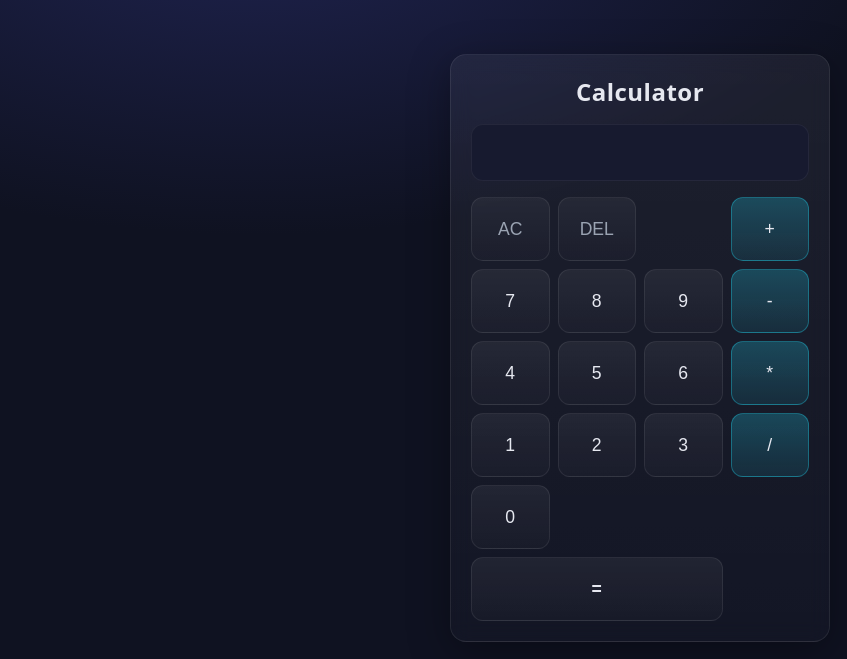
Test: calculator › should user input after clicking numbers and operations
The width and height of the screenshot is (847, 659).
Step 1. Click the button named "digit 1" → (510, 445), box [471,413,550,477]
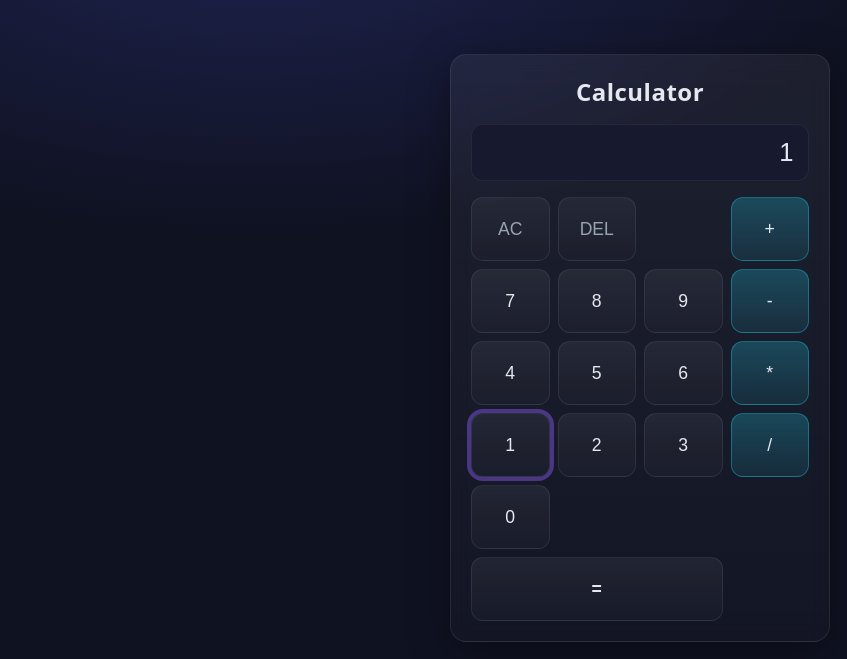
Step 2. Click the button named "operator +" → (770, 229), box [730,197,809,261]
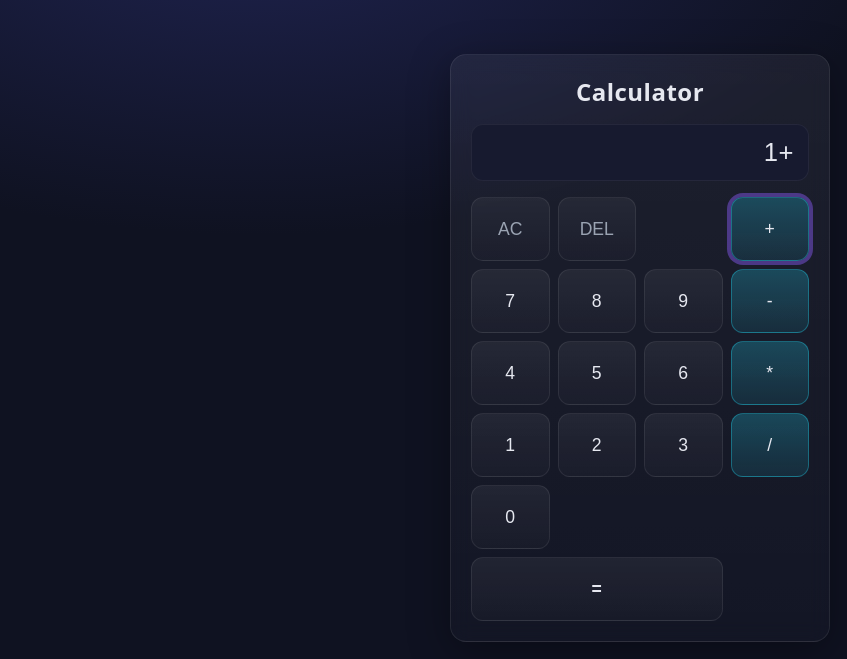
Step 3. Click the button named "digit 1" → (510, 445), box [471,413,550,477]
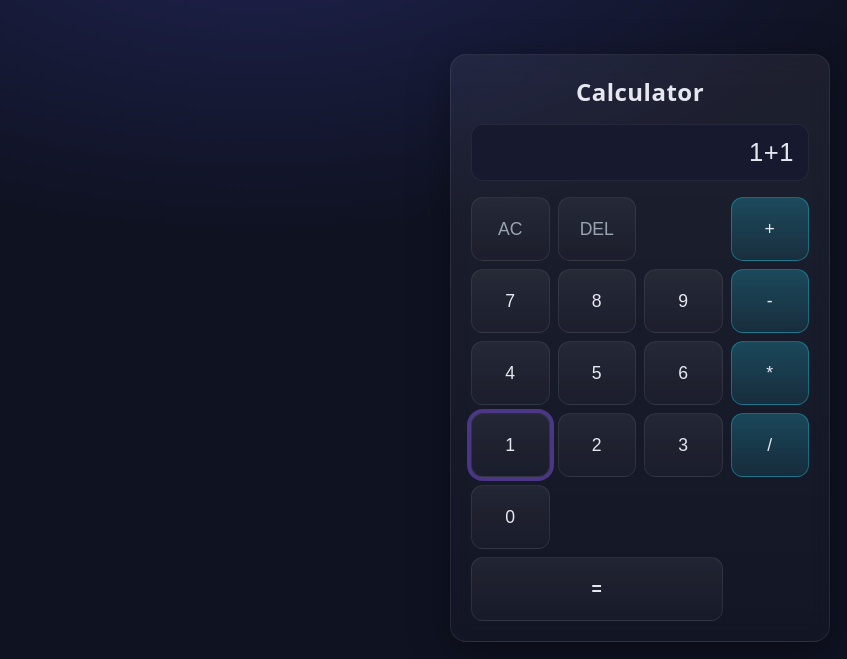
expect the field holds "1+1": met, box [484,137,796,168]
